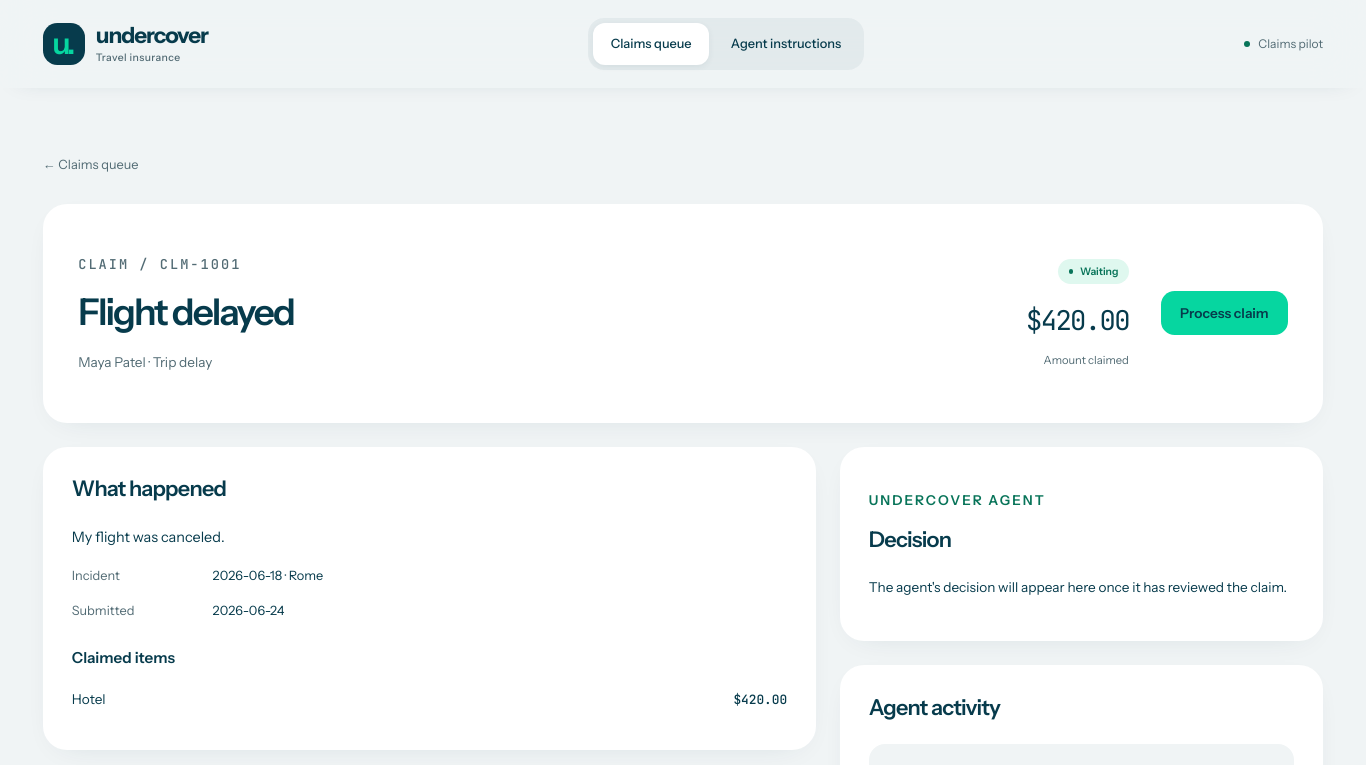
keeps a failed action visible
What coordinates should you click on to do the following:
click the button "Process claim"
I would click on:
 (1224, 313)
Its box is [1161,291,1288,335].
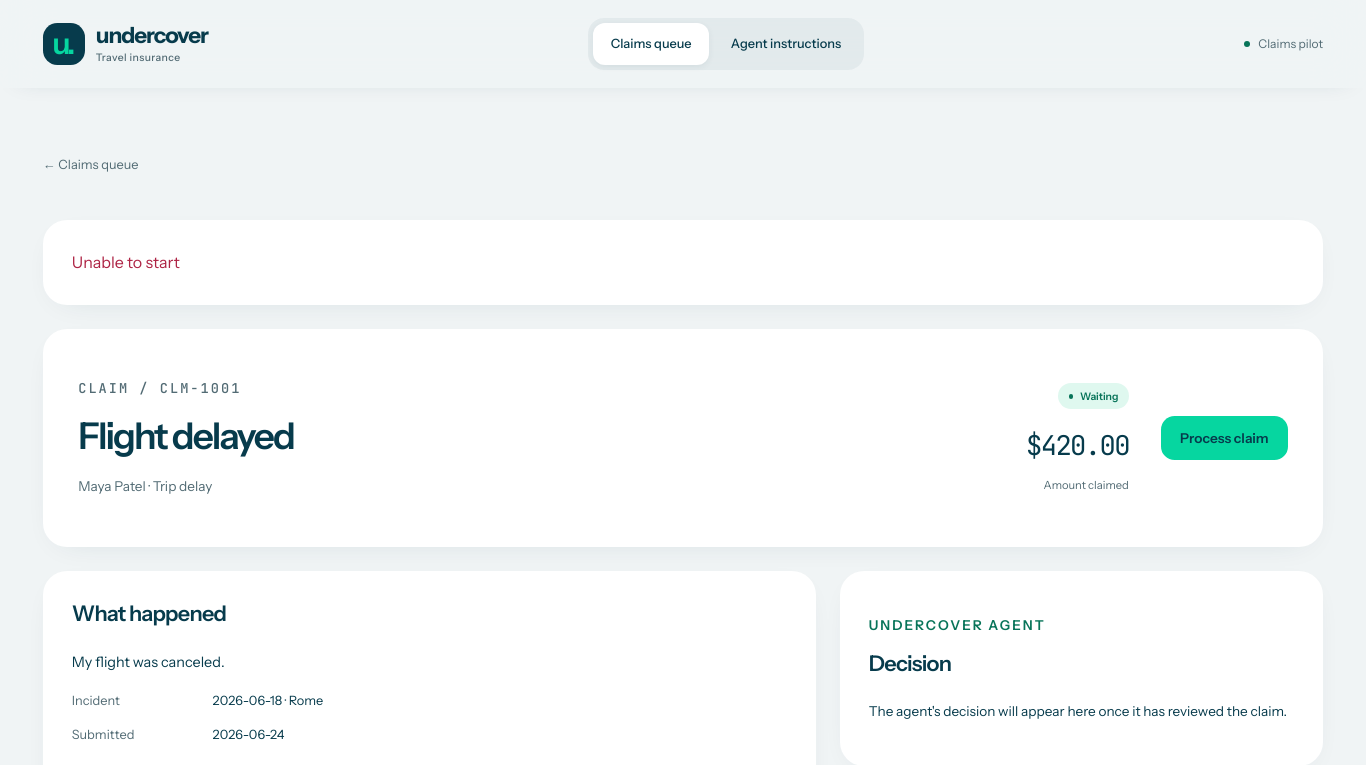
Expected: the text "Unable to start" is shown, [43,220,1323,305]
